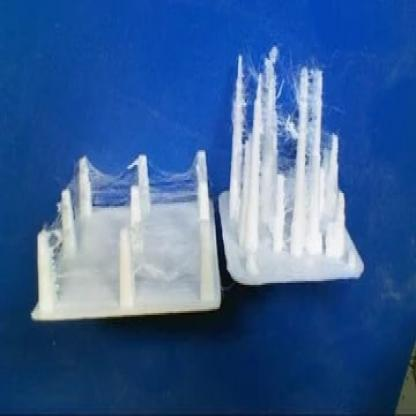fail: (275, 76, 300, 190), (88, 164, 131, 207), (150, 164, 198, 202)
